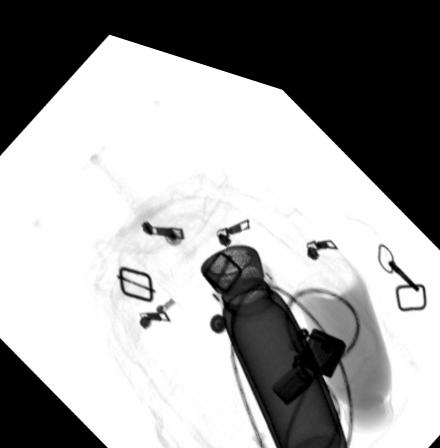Lighter: (271, 306, 347, 388)
